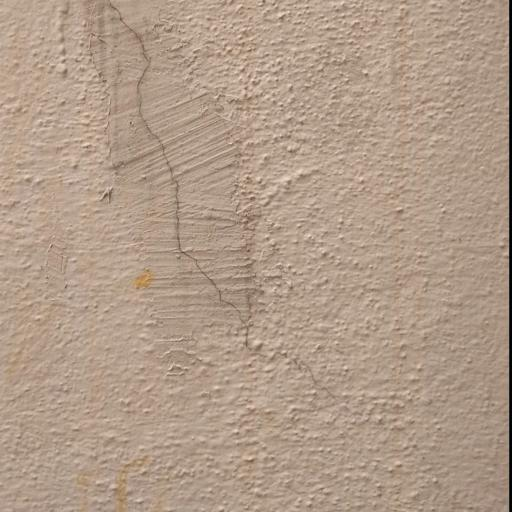minor_crack: (97, 0, 416, 439)
